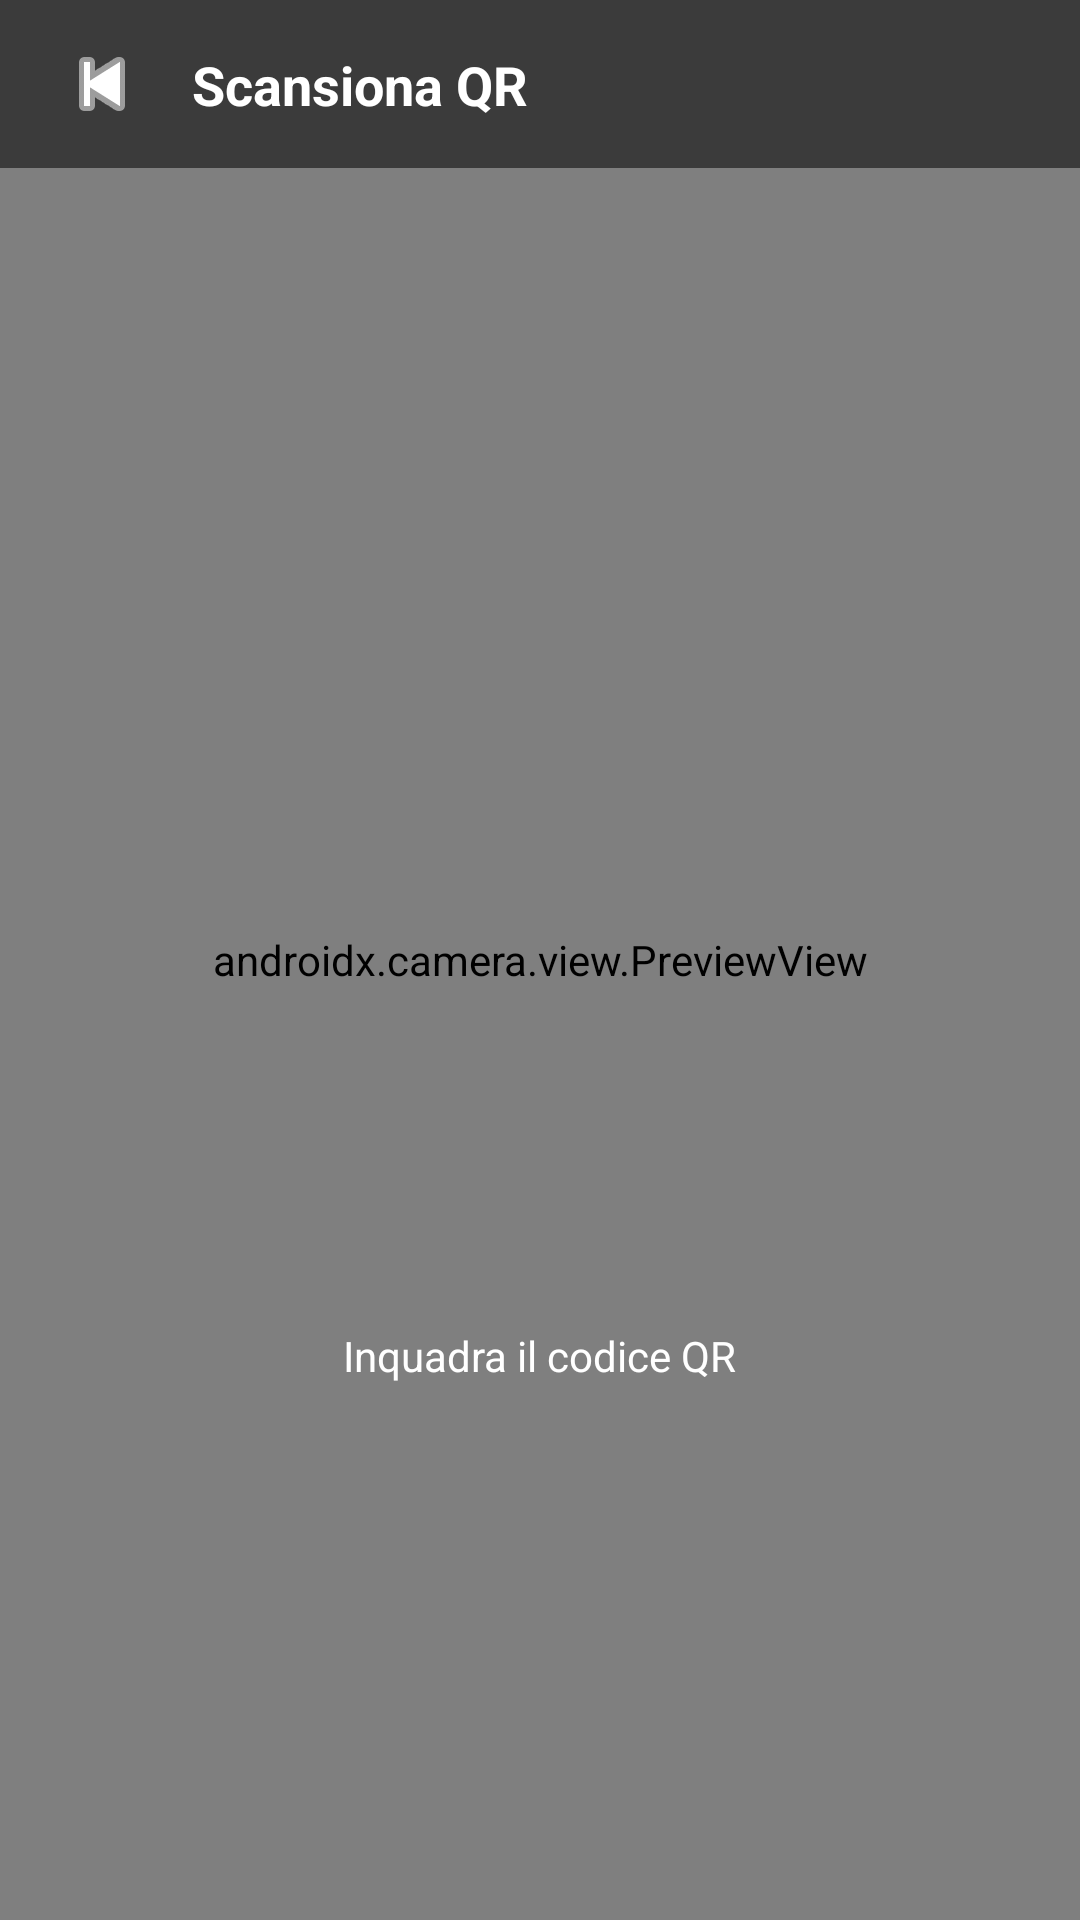

Screen size 1080*1920. Icon name, then its center in pixels as point (x, y):
previous: point (102, 84)
